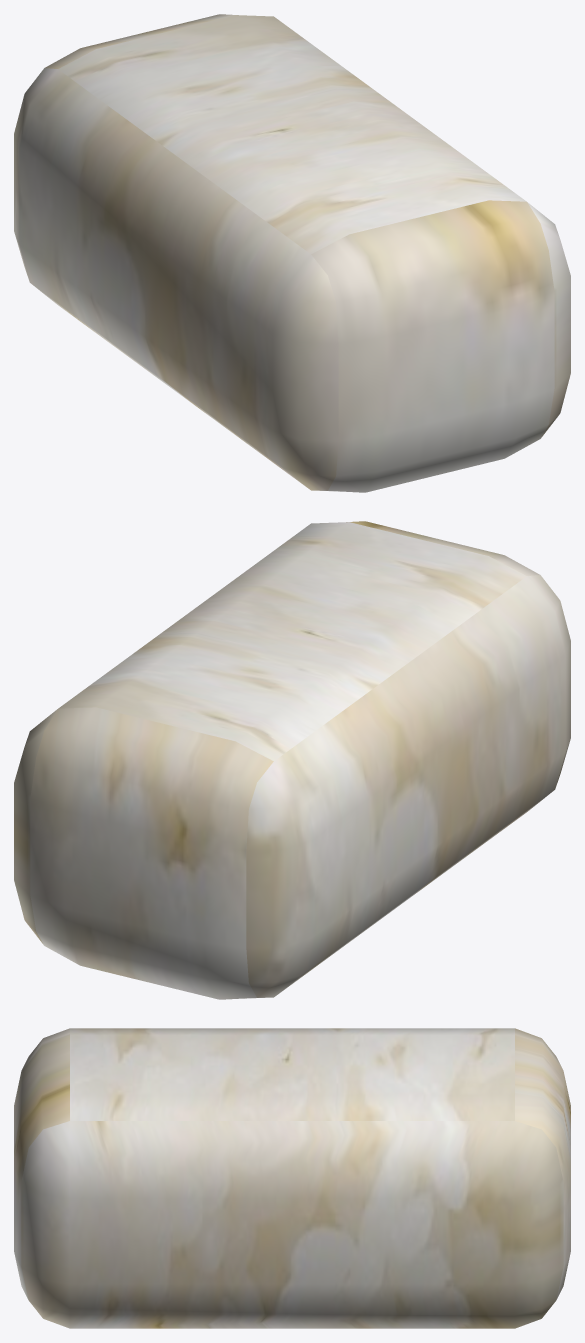
File: rice.fbx
3 renders of one model, top to bottom at view 1: azimuth 30°, elevation 25°; view 2: azimuth 150°, elevation 25°; view 3: azimuth 270°, elevation 25°, orthographic. The views are drawn at different scales.
Visible parts, largest first — view 1: rice; view 2: rice; view 3: rice.
Boxes of the visible parts, box(x1,y1,x2,y2) form: rice: box(14, 14, 570, 492); rice: box(14, 521, 570, 999); rice: box(14, 1028, 570, 1328).
Bounding box in the file's own units: 37.42 × 31.47 × 70.14.
